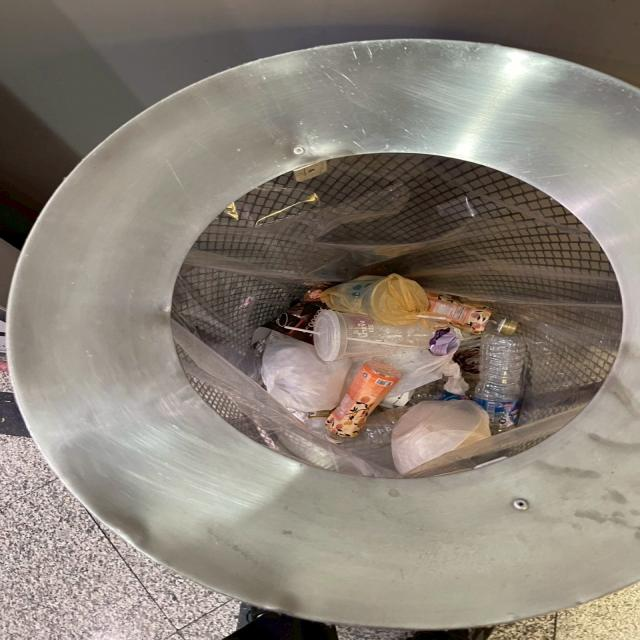plastic bottle: (484, 336, 529, 425)
